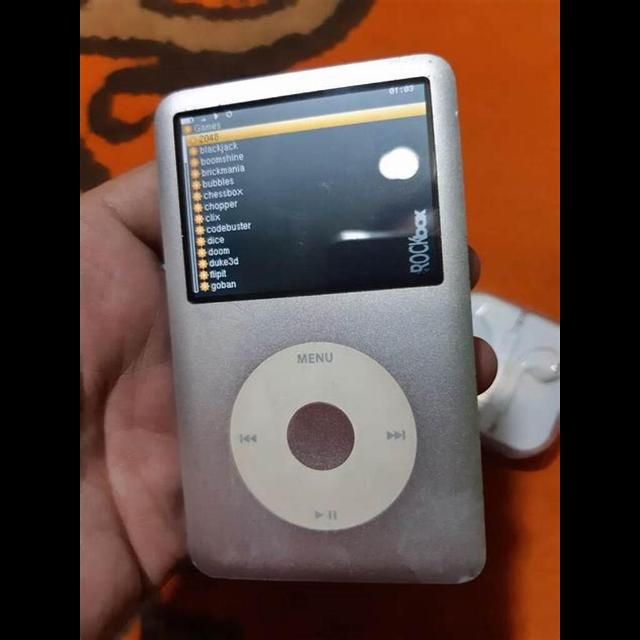Music-Player: (143, 47, 499, 595)
